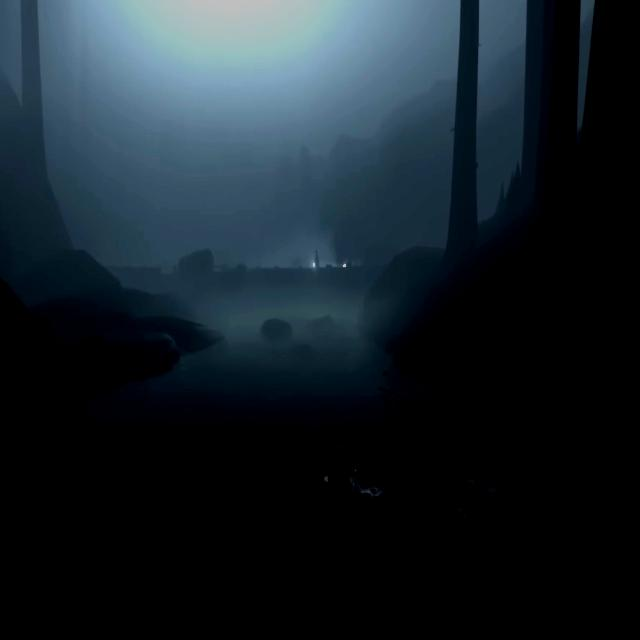boy: (326, 445, 356, 496)
